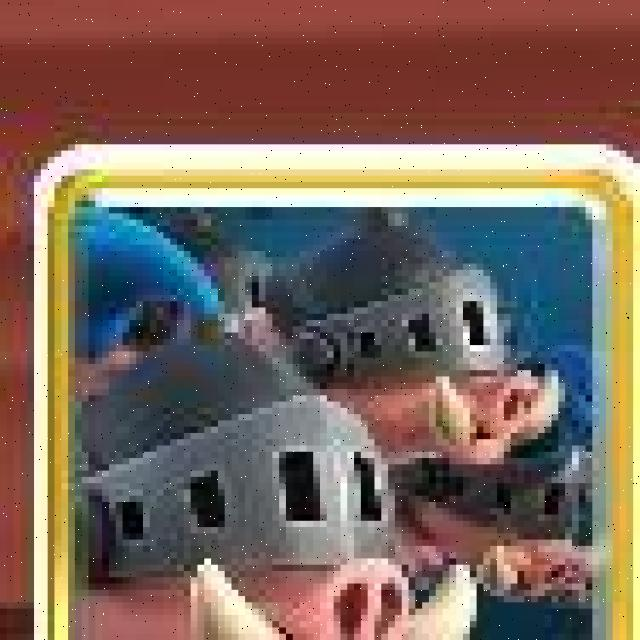Royal_Hogs: (33, 144, 638, 638)
